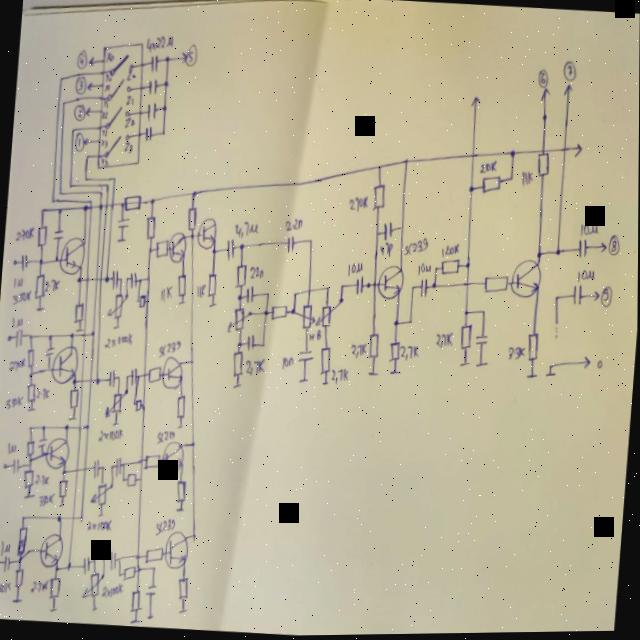capacitor: (295, 347, 313, 365), (570, 283, 582, 307), (575, 238, 588, 260), (223, 237, 235, 260), (146, 78, 160, 95), (145, 100, 156, 121), (148, 53, 159, 74), (381, 220, 392, 241), (109, 267, 119, 290), (417, 276, 427, 298), (114, 215, 129, 229), (244, 283, 254, 303), (108, 548, 117, 570), (114, 454, 123, 476), (91, 456, 100, 478), (473, 332, 486, 347), (144, 581, 157, 596), (13, 326, 23, 345), (10, 455, 20, 474), (354, 273, 363, 294), (19, 251, 29, 269), (285, 234, 294, 253), (245, 332, 254, 351), (128, 269, 137, 288), (143, 124, 153, 141), (2, 552, 11, 570), (129, 364, 137, 384), (42, 344, 54, 357), (82, 554, 90, 573), (108, 368, 115, 387), (52, 227, 63, 239), (36, 436, 47, 448)
crossover: (462, 279, 469, 287), (468, 151, 475, 159), (134, 551, 140, 558), (76, 423, 82, 430), (87, 374, 92, 382), (561, 145, 566, 152), (540, 147, 545, 153), (70, 513, 75, 519), (138, 456, 142, 463), (85, 274, 89, 281), (82, 330, 86, 337), (79, 376, 83, 383), (306, 286, 310, 293), (141, 371, 145, 377), (74, 466, 78, 472), (82, 464, 86, 470), (109, 200, 113, 206), (98, 274, 102, 280), (371, 281, 375, 287), (94, 275, 97, 282), (103, 202, 107, 207), (88, 204, 92, 209)
ground: (388, 368, 400, 375), (475, 360, 487, 367), (524, 373, 536, 380), (33, 303, 43, 311), (66, 413, 76, 421), (23, 491, 34, 498), (129, 616, 140, 623), (458, 360, 469, 367), (11, 595, 22, 602), (231, 380, 240, 388), (366, 370, 378, 376), (115, 235, 125, 242), (175, 505, 185, 512), (297, 376, 307, 383), (177, 606, 186, 613), (544, 371, 554, 377), (177, 298, 185, 305), (146, 611, 154, 618), (48, 605, 56, 612), (321, 379, 329, 386), (111, 322, 119, 329), (207, 300, 215, 307), (111, 419, 119, 426), (26, 405, 35, 411), (74, 326, 83, 331), (176, 422, 183, 428), (58, 500, 64, 506), (91, 604, 97, 610), (97, 511, 103, 516)
inductor: (15, 523, 27, 554)
junction: (64, 558, 72, 570), (50, 254, 58, 262), (533, 250, 541, 258), (36, 256, 44, 264), (507, 149, 514, 158), (553, 247, 560, 256), (81, 202, 88, 211), (289, 305, 296, 314), (463, 260, 470, 268), (147, 196, 154, 204), (466, 184, 473, 192), (391, 318, 398, 326), (461, 308, 468, 316), (26, 331, 33, 339), (161, 78, 168, 86), (159, 103, 166, 111), (19, 512, 26, 520), (261, 307, 268, 315), (46, 330, 53, 338), (55, 513, 62, 521), (69, 126, 76, 134), (306, 236, 312, 244), (189, 439, 195, 447), (190, 531, 196, 539), (146, 245, 152, 253), (59, 97, 65, 105), (56, 205, 62, 213), (336, 295, 342, 303), (189, 189, 195, 196), (479, 307, 485, 314), (163, 53, 169, 60), (57, 73, 63, 80), (235, 293, 241, 300), (84, 152, 90, 159), (95, 375, 100, 383), (63, 422, 68, 430), (75, 275, 81, 281), (60, 468, 66, 474), (552, 294, 557, 301), (188, 356, 193, 363), (39, 205, 44, 212), (323, 283, 328, 290), (69, 331, 74, 338), (103, 275, 108, 282), (97, 202, 102, 209), (239, 242, 244, 249), (84, 422, 89, 429), (27, 369, 32, 376), (17, 555, 22, 562), (375, 163, 380, 169), (402, 157, 407, 163), (264, 290, 269, 296), (111, 174, 116, 180), (49, 196, 54, 202), (236, 340, 241, 346), (398, 224, 403, 230), (41, 423, 46, 429), (71, 377, 76, 383), (90, 328, 94, 335), (260, 340, 264, 347), (508, 175, 512, 182), (431, 280, 435, 287), (124, 274, 128, 281), (211, 247, 215, 254), (365, 281, 369, 288), (247, 309, 251, 316), (292, 290, 296, 296), (407, 318, 411, 324), (160, 129, 164, 135), (78, 514, 82, 520), (338, 282, 342, 288), (145, 274, 149, 280), (138, 475, 142, 481), (117, 555, 121, 561), (118, 275, 122, 281), (144, 297, 148, 303), (137, 276, 141, 282), (98, 188, 102, 194), (57, 189, 61, 195), (67, 182, 71, 188), (119, 200, 123, 206), (189, 232, 193, 238), (374, 231, 378, 237), (547, 364, 551, 370), (28, 423, 32, 429), (46, 364, 50, 370), (124, 372, 128, 378), (116, 373, 120, 379), (433, 265, 437, 271), (54, 565, 58, 571), (409, 285, 413, 291), (104, 181, 108, 187), (100, 570, 104, 576), (141, 401, 144, 408), (121, 461, 125, 466), (109, 463, 113, 468), (152, 564, 156, 569), (92, 556, 96, 561), (134, 297, 138, 302), (83, 175, 87, 180), (131, 399, 135, 404), (40, 450, 44, 455), (109, 482, 113, 487), (136, 565, 140, 570), (121, 477, 125, 481), (87, 198, 91, 202), (100, 464, 103, 469), (117, 571, 120, 576), (102, 554, 105, 559), (136, 373, 139, 378), (27, 456, 31, 459), (28, 460, 30, 464)
resistor: (101, 390, 130, 421), (106, 287, 128, 319), (314, 295, 336, 327), (80, 569, 100, 598), (226, 305, 246, 334), (295, 302, 315, 330), (482, 273, 507, 294), (89, 478, 109, 504), (369, 182, 385, 211), (478, 173, 500, 193), (457, 322, 472, 351), (525, 331, 539, 362), (534, 151, 550, 177), (230, 348, 244, 377), (142, 544, 163, 563), (34, 221, 48, 248), (366, 331, 379, 360), (33, 270, 46, 299), (128, 587, 143, 612), (318, 344, 330, 375), (233, 261, 247, 287), (122, 192, 140, 211), (387, 338, 401, 362), (142, 451, 159, 470), (439, 258, 458, 275), (24, 380, 38, 403), (153, 238, 168, 259), (205, 271, 217, 297), (144, 213, 156, 239), (48, 574, 61, 598), (72, 299, 85, 323), (174, 272, 186, 297), (174, 392, 186, 417), (270, 303, 287, 320), (174, 478, 186, 502), (146, 363, 161, 382), (12, 564, 24, 587), (67, 386, 78, 411), (185, 205, 196, 230), (24, 346, 35, 367), (22, 467, 33, 488), (122, 564, 136, 579), (23, 437, 34, 456), (57, 476, 67, 496), (125, 471, 136, 486), (138, 293, 145, 307), (134, 398, 141, 410)
source: (571, 141, 582, 158)
switch: (101, 128, 130, 159), (103, 102, 131, 131), (104, 75, 132, 103), (110, 51, 135, 75)
terminal: (175, 574, 190, 600), (539, 87, 550, 102), (468, 95, 479, 107), (561, 84, 571, 97), (582, 356, 590, 370), (598, 241, 606, 254), (179, 49, 186, 63), (83, 103, 90, 115), (592, 291, 599, 302), (81, 134, 88, 145), (87, 54, 94, 64), (86, 80, 91, 90), (552, 318, 558, 326), (11, 256, 17, 264), (5, 332, 11, 340), (1, 461, 7, 468)
text: (102, 328, 134, 349), (144, 30, 173, 51), (402, 235, 427, 257), (156, 337, 181, 359), (232, 217, 257, 237), (244, 355, 265, 377), (96, 426, 124, 442), (153, 515, 174, 536), (85, 516, 112, 532), (346, 193, 368, 212), (606, 232, 621, 259), (398, 342, 419, 361), (101, 581, 124, 598), (71, 45, 87, 69), (329, 364, 348, 384), (155, 427, 175, 445), (6, 354, 27, 371), (10, 287, 31, 304), (560, 58, 576, 80), (283, 215, 302, 232), (433, 331, 452, 348), (4, 392, 23, 409), (28, 577, 49, 592), (13, 224, 34, 239), (183, 41, 196, 65), (348, 340, 366, 357), (440, 242, 458, 259), (506, 345, 525, 361), (477, 158, 497, 173), (345, 260, 362, 277), (248, 262, 264, 280), (598, 286, 611, 308), (579, 222, 598, 237), (378, 240, 393, 258), (37, 491, 56, 505), (518, 168, 532, 187), (159, 283, 172, 303), (43, 277, 60, 292), (70, 103, 85, 120), (72, 131, 85, 150), (535, 68, 548, 87), (575, 268, 594, 281), (35, 385, 52, 399), (0, 535, 12, 554), (415, 260, 430, 275), (5, 437, 18, 454), (73, 75, 86, 92), (36, 470, 49, 486), (280, 355, 293, 370), (194, 281, 205, 298), (307, 327, 321, 340), (11, 274, 23, 289), (0, 577, 12, 592), (10, 314, 23, 327), (123, 139, 133, 155), (124, 116, 135, 128), (126, 70, 137, 82), (97, 136, 108, 148), (125, 92, 134, 106), (105, 49, 114, 62), (593, 357, 602, 370), (103, 71, 112, 82), (601, 288, 608, 302), (565, 63, 572, 77), (609, 240, 617, 252), (99, 155, 108, 165), (100, 127, 109, 137), (101, 97, 109, 108), (187, 48, 193, 62), (77, 55, 84, 64), (539, 72, 544, 84), (77, 77, 82, 89), (76, 134, 81, 146), (100, 111, 107, 119), (76, 106, 81, 116), (103, 85, 109, 91)
transistor: (508, 257, 541, 300), (48, 342, 79, 384), (57, 233, 85, 275), (162, 527, 189, 570), (376, 263, 404, 301), (38, 531, 63, 567), (159, 353, 184, 389), (43, 434, 69, 468), (160, 439, 184, 472), (195, 215, 216, 249), (166, 230, 186, 263)
